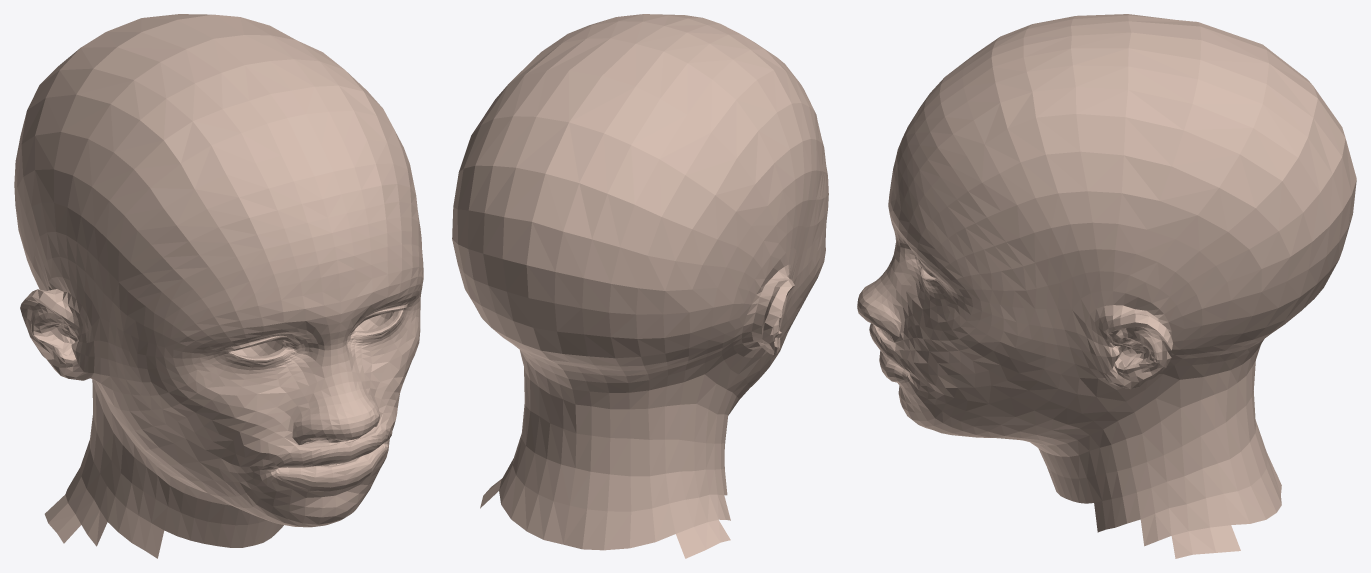
File: karma_face_MH_neutral_FITTEST.glb
The picture shows the model from 3 angles, left to right: view 1: azimuth 30°, elevation 25°; view 2: azimuth 150°, elevation 25°; view 3: azimuth 270°, elevation 25°; orthographic projection. The views are drawn at different scales.
Visible parts, largest first — view 1: head; view 2: head; view 3: head.
Part boxes in pixels (x1=…): head: x1=14, y1=14, x2=423, y2=558; head: x1=452, y1=14, x2=828, y2=558; head: x1=857, y1=14, x2=1356, y2=558.
Bounding box in the file's own units: 2.94 × 3.93 × 3.81.
